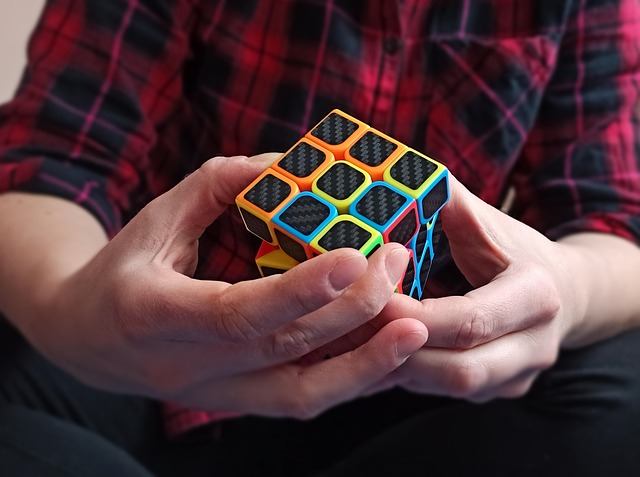cube: (233, 106, 451, 317)
